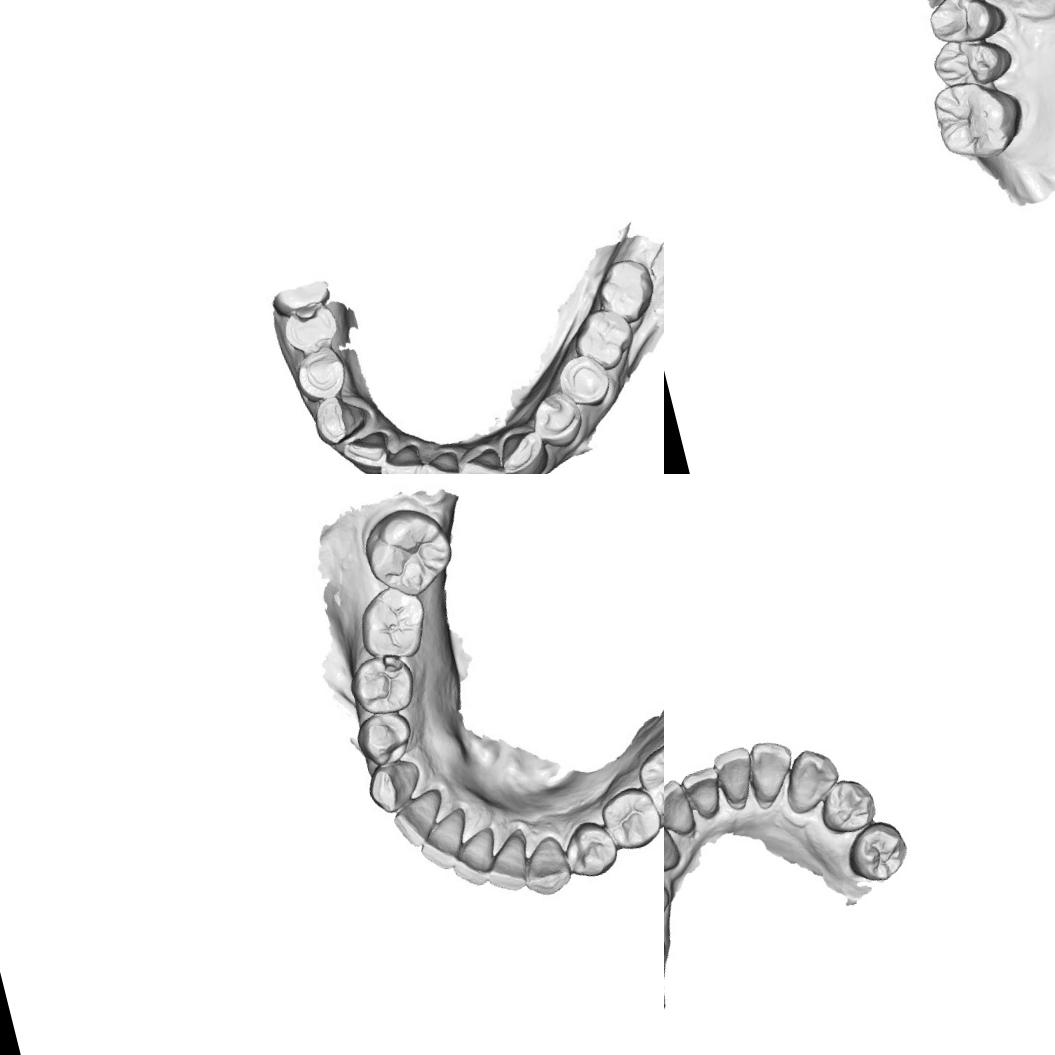canine: (775, 742, 845, 815), (362, 754, 431, 817), (516, 832, 576, 900), (305, 388, 372, 448), (493, 422, 550, 474), (664, 813, 683, 879)
incisor: (741, 734, 803, 810), (442, 822, 510, 891), (412, 806, 480, 874), (385, 786, 450, 853), (477, 830, 533, 900), (709, 743, 762, 813), (678, 764, 728, 823), (340, 426, 396, 474), (664, 775, 699, 844), (376, 441, 424, 474), (456, 443, 505, 474), (417, 446, 463, 474)
molar: (355, 497, 462, 605), (926, 70, 1031, 170), (350, 581, 431, 666), (592, 250, 662, 326), (569, 302, 635, 378), (630, 728, 664, 823)
premolar: (927, 28, 1018, 99), (343, 647, 420, 720), (839, 815, 913, 888), (594, 779, 664, 854), (279, 296, 352, 362), (352, 703, 418, 770), (814, 772, 880, 838), (558, 815, 623, 882), (923, 0, 1006, 50), (294, 348, 356, 404), (532, 390, 586, 450), (563, 354, 611, 404)
